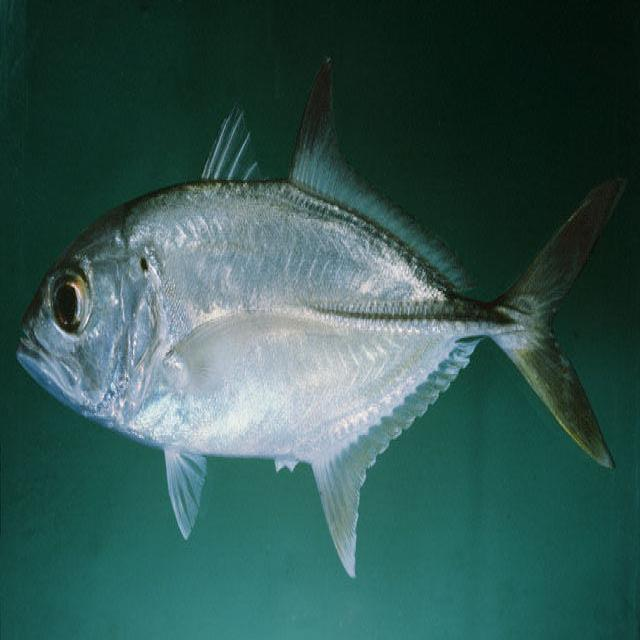ikan: (11, 49, 623, 590)
